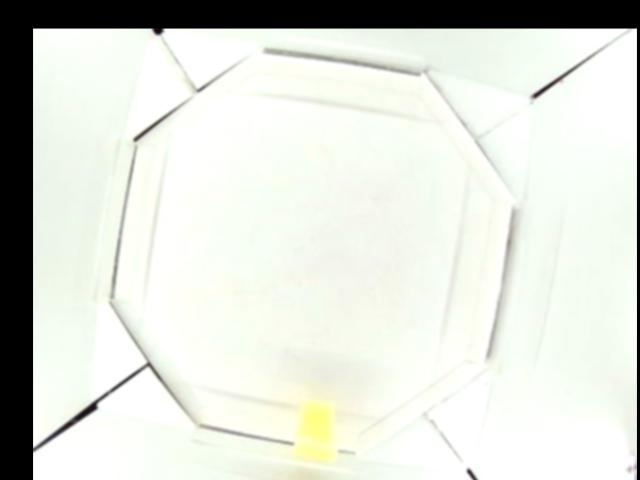Potato: (292, 396, 339, 461)
